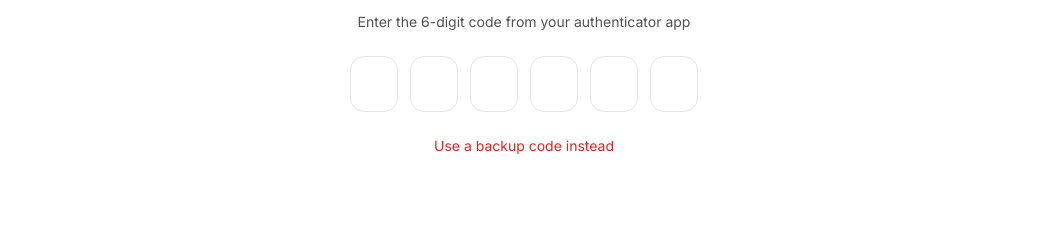
Test: MFAVerifyForm › shows a generic error on a non-lockout failure
Type "1" into the 1st field at (374, 84), box [350,56,398,112]
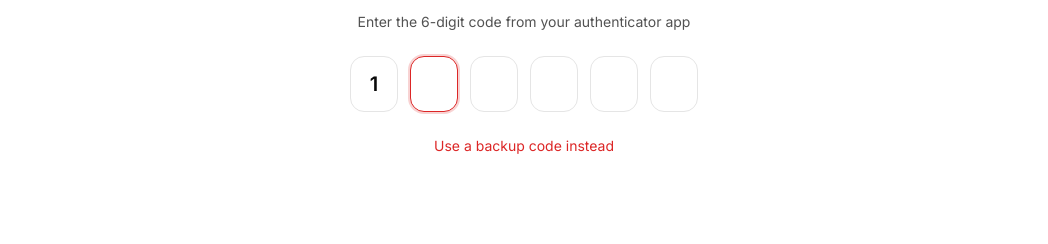
Type "2" into the 2nd field at (434, 84), box [410,56,458,112]
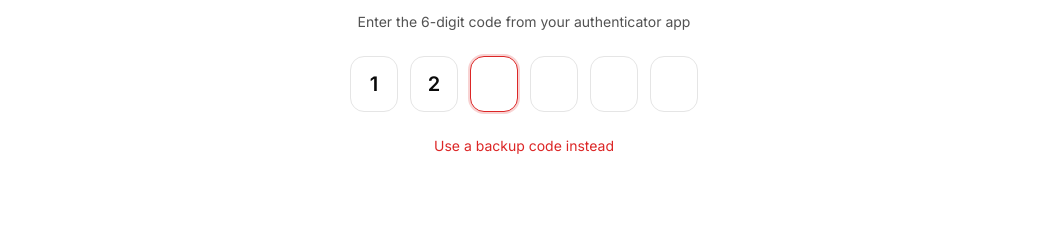
Type "3" into the 3rd field at (494, 84), box [470,56,518,112]
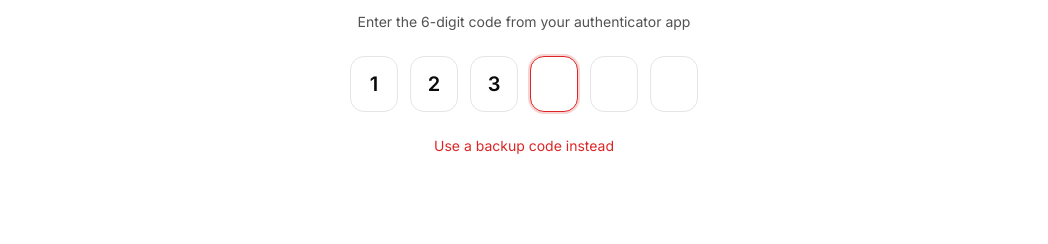
Type "4" into the 4th field at (554, 84), box [530,56,578,112]
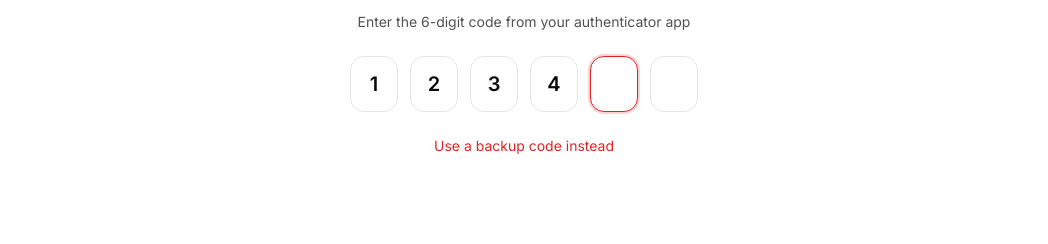
Type "5" into the 5th field at (614, 84), box [590,56,638,112]
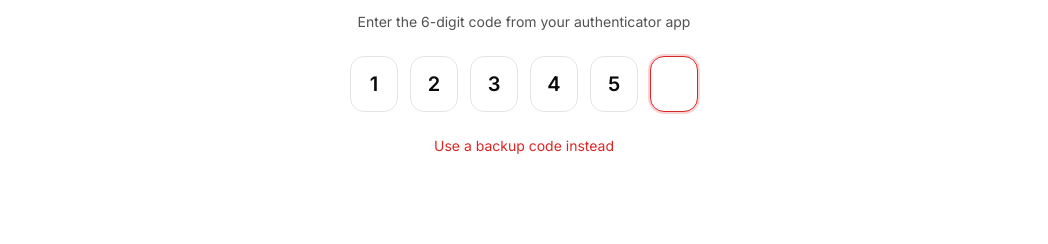
Type "6" into the 6th field at (674, 84), box [650,56,698,112]
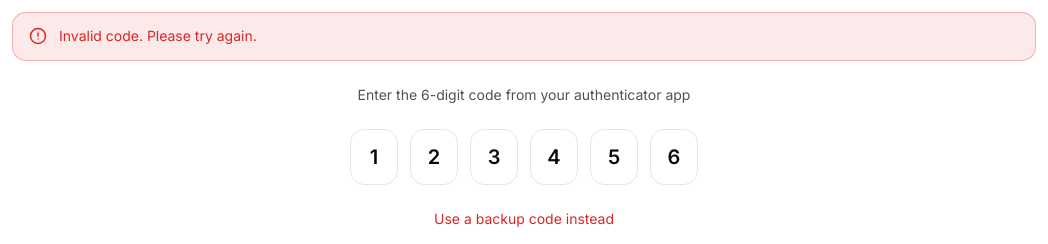
Result: the text "Invalid code. Please try again." is shown at [59,27,257,44]
